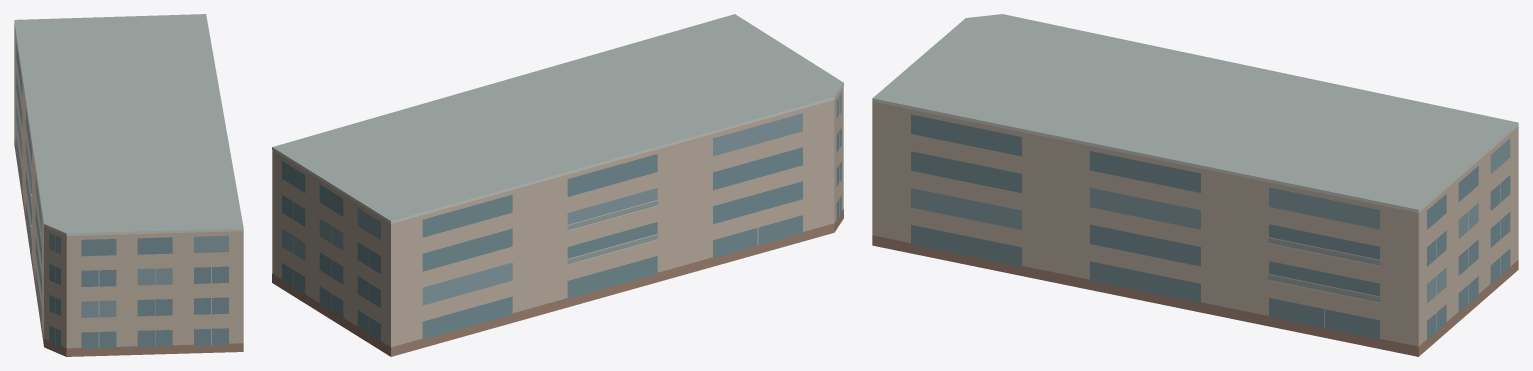
The model's file is survey-upis-32893116.glb.
The picture shows the model from 3 angles, left to right: view 1: azimuth 30°, elevation 25°; view 2: azimuth 150°, elevation 25°; view 3: azimuth 270°, elevation 25°; orthographic projection. The views are drawn at different scales.
Parts seen in each view (by area): view 1: survey-upis-32893116.tmp; view 2: survey-upis-32893116.tmp; view 3: survey-upis-32893116.tmp.
Boxes of the visible parts, x1,y1,x2,y2 form: survey-upis-32893116.tmp: [14, 14, 243, 356]; survey-upis-32893116.tmp: [272, 14, 843, 356]; survey-upis-32893116.tmp: [872, 14, 1518, 356].
Size of the model in its own units: 32.25 by 11.3 by 44.98.
